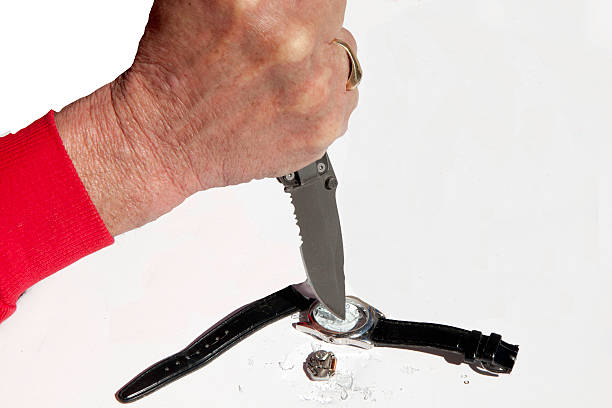knife: (278, 150, 348, 320)
